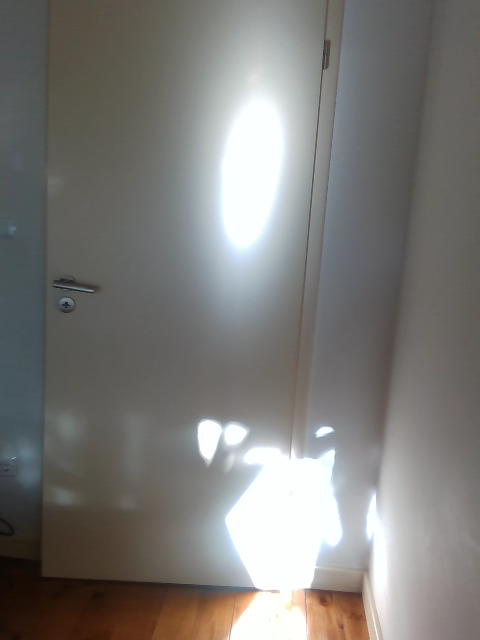closed: (40, 1, 343, 588)
